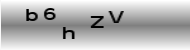6: (42, 7, 57, 20)
V: (108, 9, 124, 24)
Z: (89, 14, 105, 28)
b: (25, 8, 39, 23)
h: (62, 26, 76, 39)
